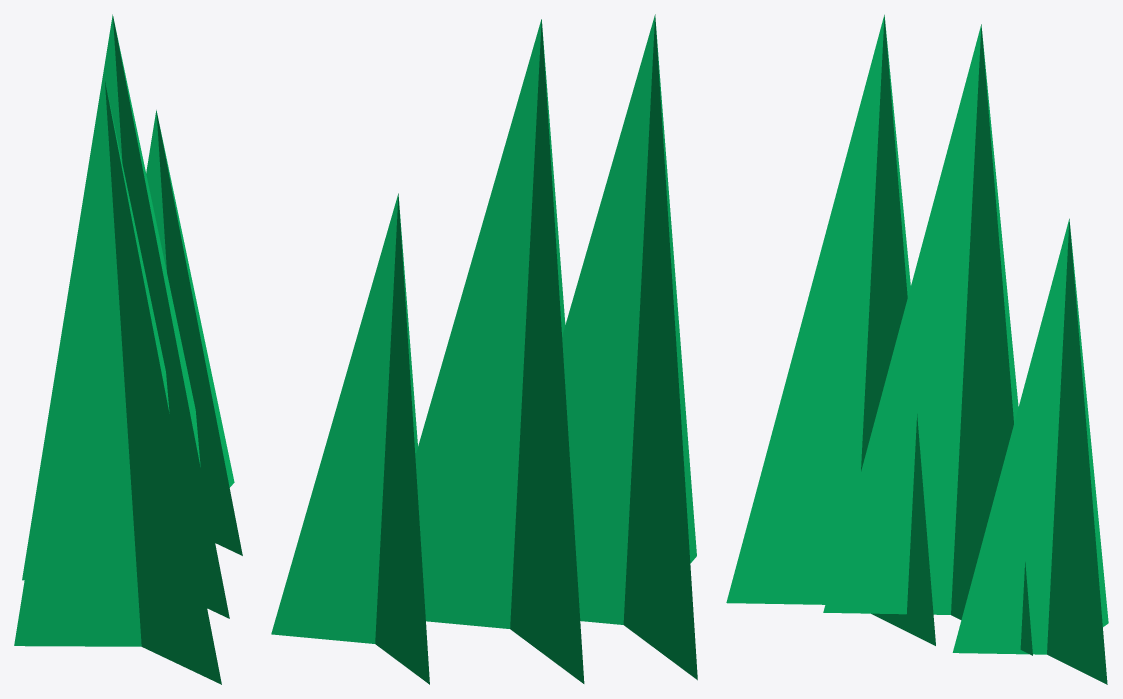
File: pasto.fbx
3 renders of one model, left to right at view 1: azimuth 30°, elevation 25°; view 2: azimuth 150°, elevation 25°; view 3: azimuth 270°, elevation 25°, orthographic. The views are drawn at different scales.
Parts seen in each view (by area): view 1: Cone.002; view 2: Cone.002; view 3: Cone.002.
Boxes of the visible parts, <box> form: Cone.002: <box>14,14,242,684</box>; Cone.002: <box>271,14,697,684</box>; Cone.002: <box>726,14,1108,684</box>.
Size of the model in its own units: 360 by 665 by 385.
